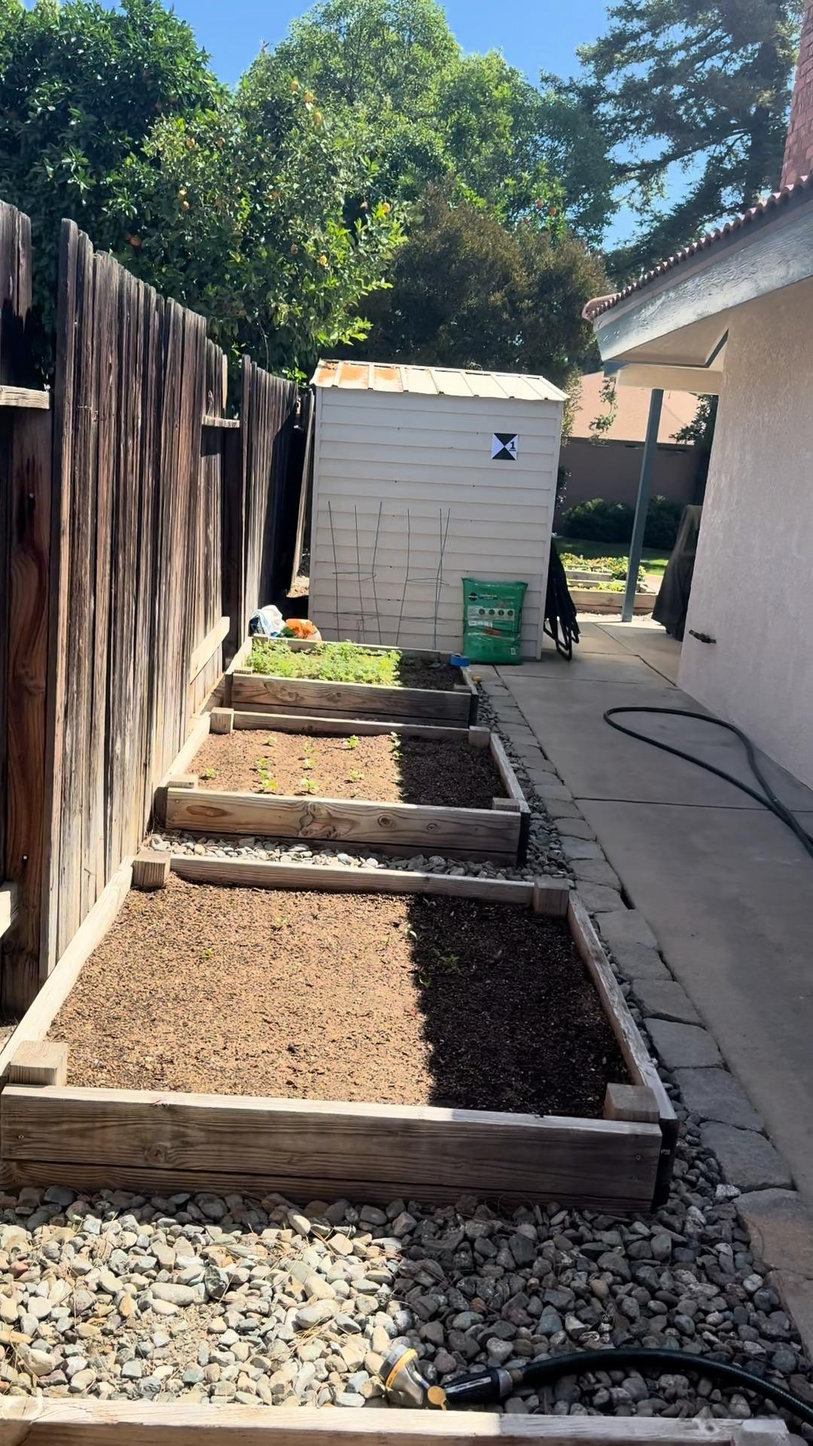target1: (491, 429, 521, 462)
